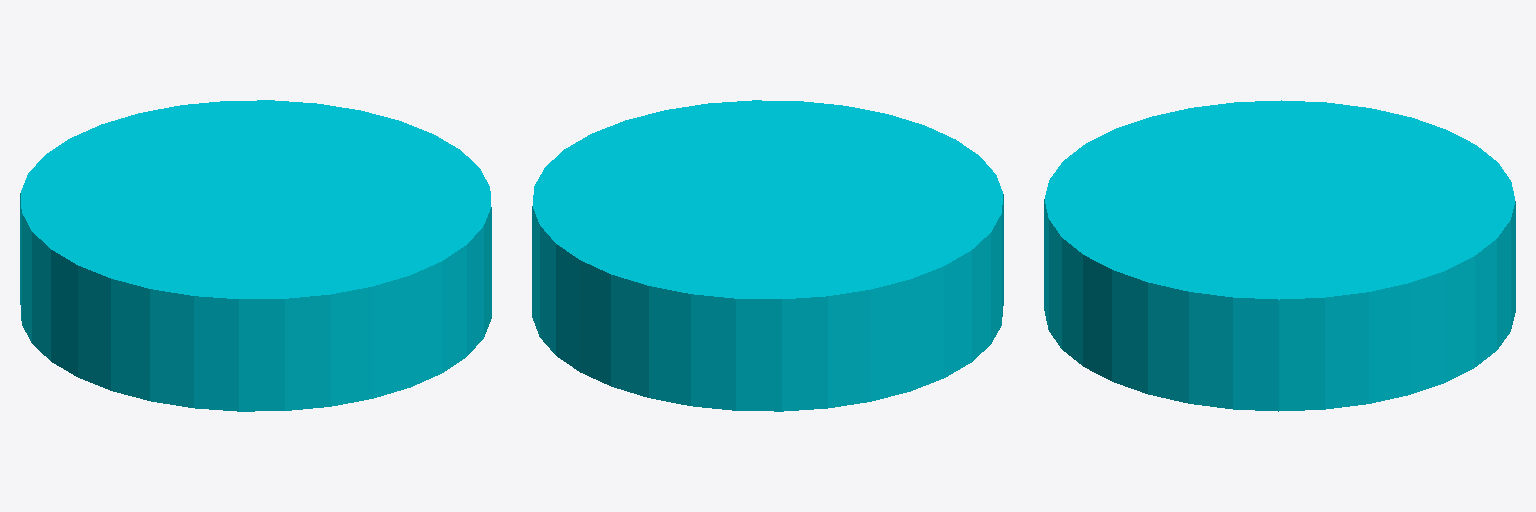
URDF robot description (Interference):
<?xml version="1.0"?>
<robot name="Interference">
  <link name="baseLink">
    <inertial>
      <origin xyz="0.0 0.0 0.0" rpy="0.0 0.0 0.0"/>
      <inertia ixx="0.0" ixy="0.0" ixz="0.0" iyy="0.0" iyz="0.0" izz="0.0"/>
      <mass value="0"/>
    </inertial>
    <visual>
      <origin xyz="0.0 0.0 0.0" rpy="0.0 0.0 -0.595036744109234"/>
      <geometry>
        <cylinder radius="0.019059475280803498" length="0.01"/>
      </geometry>
      <material name="color">
        <color rgba="0.015016018441593837 0.8447776597362455 0.9127561033213815 1.0"/>
      </material>
    </visual>
  </link>
</robot>

--- Facts derived from the render (not from the file) ---
3 views of the same robot in one strip: view 1: azimuth 30°, elevation 25°; view 2: azimuth 150°, elevation 25°; view 3: azimuth 270°, elevation 25° (orthographic).
Robot: Interference — 1 links, 0 joints (none); root link baseLink; default pose: every joint at zero.
Links seen in each view (by area): view 1: baseLink; view 2: baseLink; view 3: baseLink.
Boxes of the visible links, bbox=[...] form: baseLink: bbox=[20, 100, 491, 411]; baseLink: bbox=[532, 100, 1003, 411]; baseLink: bbox=[1044, 100, 1515, 411].
Size in the robot's own frame: 0.0381 by 0.0381 by 0.01 metres.
Geometry: primitives only (box / cylinder / sphere), no mesh files.